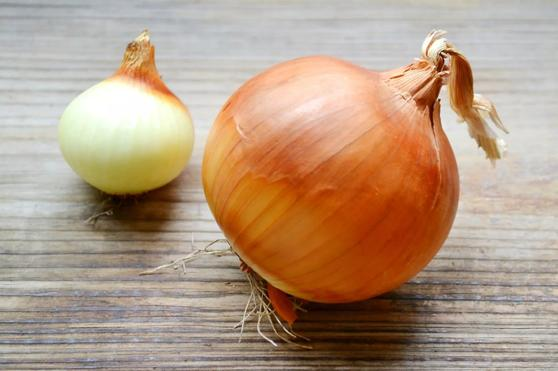onion: (198, 43, 494, 321)
